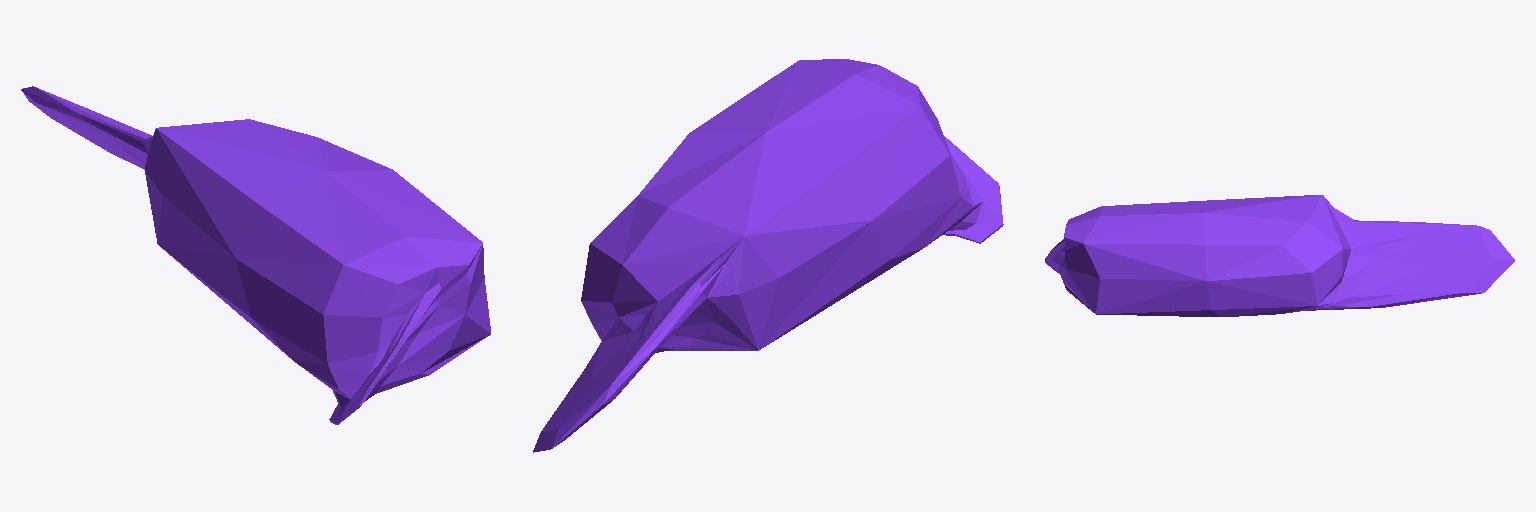
The robot description file, URDF, robot "blob580":

<robot name="blob580">
  <link name="random_obj_580">
    <contact>
      <lateral_friction value="1.0"/>
      <rolling_friction value="0.0"/>
      <inertia_scaling value="3.0"/>
      <contact_cfm value="0.0"/>
      <contact_erp value="1.0"/>
    </contact>
    <inertial>
      <origin rpy="0 0 0" xyz="0 0 0"/>
      <mass value="0.0610"/>
      <inertia ixx="1" ixy="0" ixz="0" iyy="1" iyz="0" izz="0"/>
    </inertial>
    <visual>
      <origin rpy="0 0 0" xyz="0 0 0"/>
      <geometry>
        <mesh filename="580.obj" scale="0.0076 0.0076 0.0076"/>
      </geometry>
      <material name="blockmat">
        <color rgba="0.59 0.32 0.97 1"/>
      </material>
    </visual>
    <collision>
      <origin rpy="0 0 0" xyz="0 0 0"/>
      <geometry>
        <mesh filename="580_coll.obj" scale="0.0076 0.0076 0.0076"/>
      </geometry>
    </collision>
  </link>
</robot>

--- What the picture shows (computed from the rendered views, not written in the file) ---
3 views of the same robot in one strip: view 1: azimuth 30°, elevation 25°; view 2: azimuth 150°, elevation 25°; view 3: azimuth 270°, elevation 25° (orthographic).
Robot: blob580 — 1 links, 0 joints (none); root link random_obj_580; default pose: all joints at 0.
Visible links, largest first — view 1: random_obj_580; view 2: random_obj_580; view 3: random_obj_580.
Boxes of the visible links, <box> form: random_obj_580: <box>21,86,490,424</box>; random_obj_580: <box>533,59,1003,452</box>; random_obj_580: <box>1045,195,1514,316</box>.
Size in the robot's own frame: 0.047 by 0.1533 by 0.0348 metres.
1 mesh visuals loaded from 1 distinct referenced files (1 OBJ).
